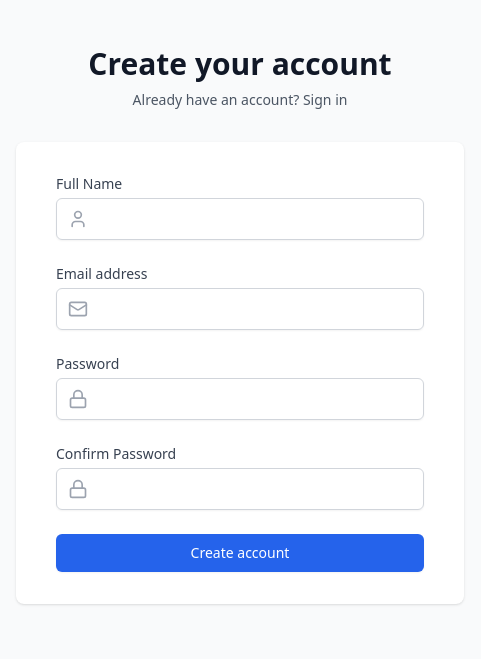
Test: Register Component › shows error when registration fails
Type "Test User" into the field labelled "Full Name" at (240, 219), box left=56, top=198, right=424, bottom=240
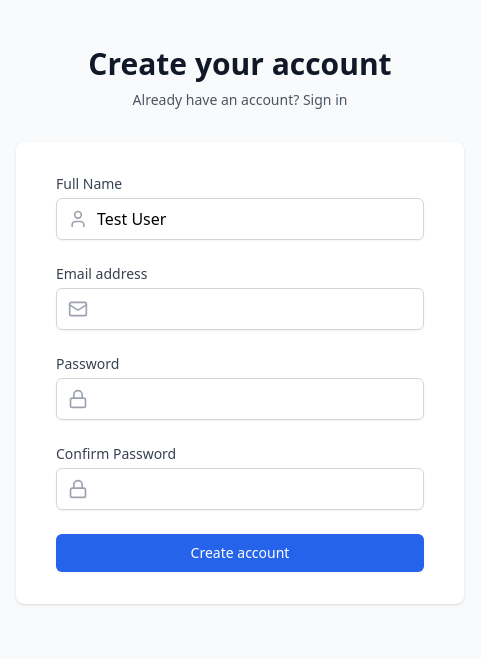
Type "test@example.com" into the field labelled "Email address" at (240, 309), box left=56, top=288, right=424, bottom=330
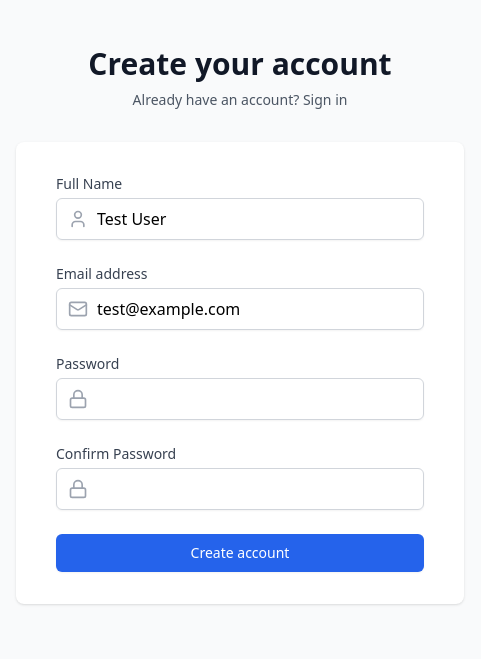
Type "password123" into the password field labelled "Password" at (240, 399), box left=56, top=378, right=424, bottom=420
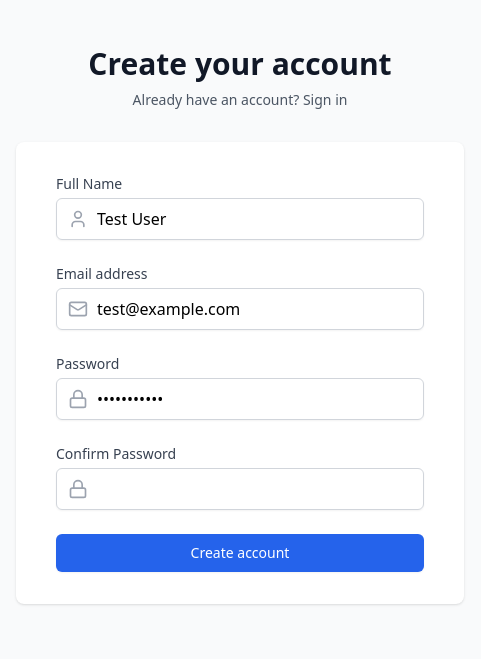
Type "password123" into the password field labelled "Confirm Password" at (240, 489), box left=56, top=468, right=424, bottom=510
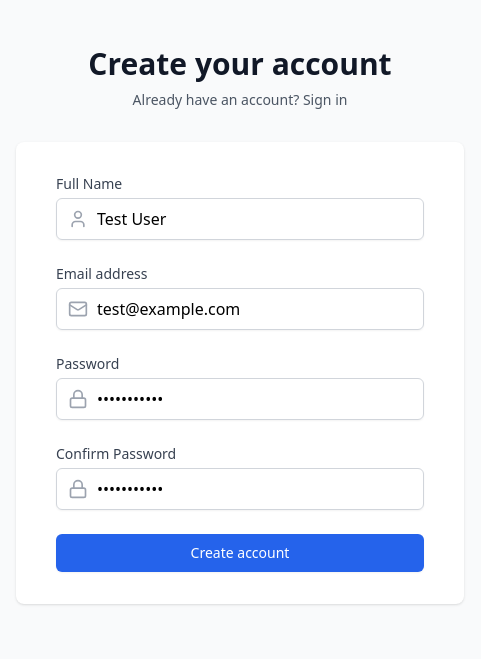
Click the button "Create account" at (240, 553), box left=56, top=534, right=424, bottom=572
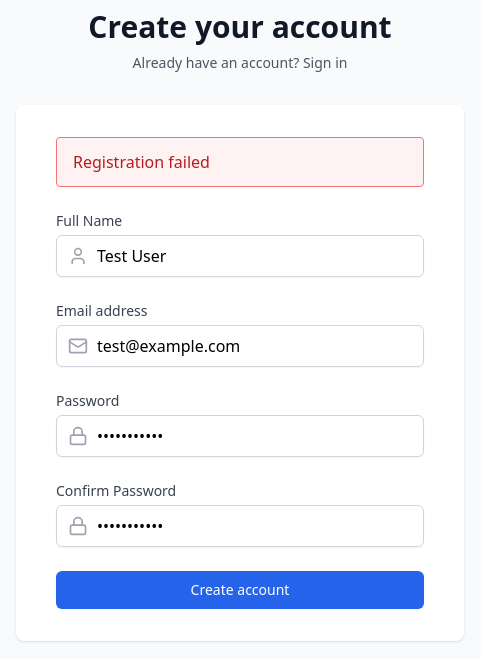
Expected: the text "Registration failed" is shown, left=56, top=137, right=424, bottom=187
